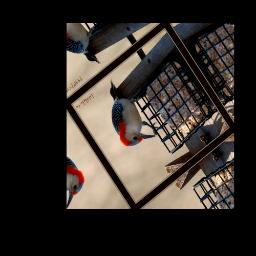Woodpecker: (91, 69, 163, 156)
